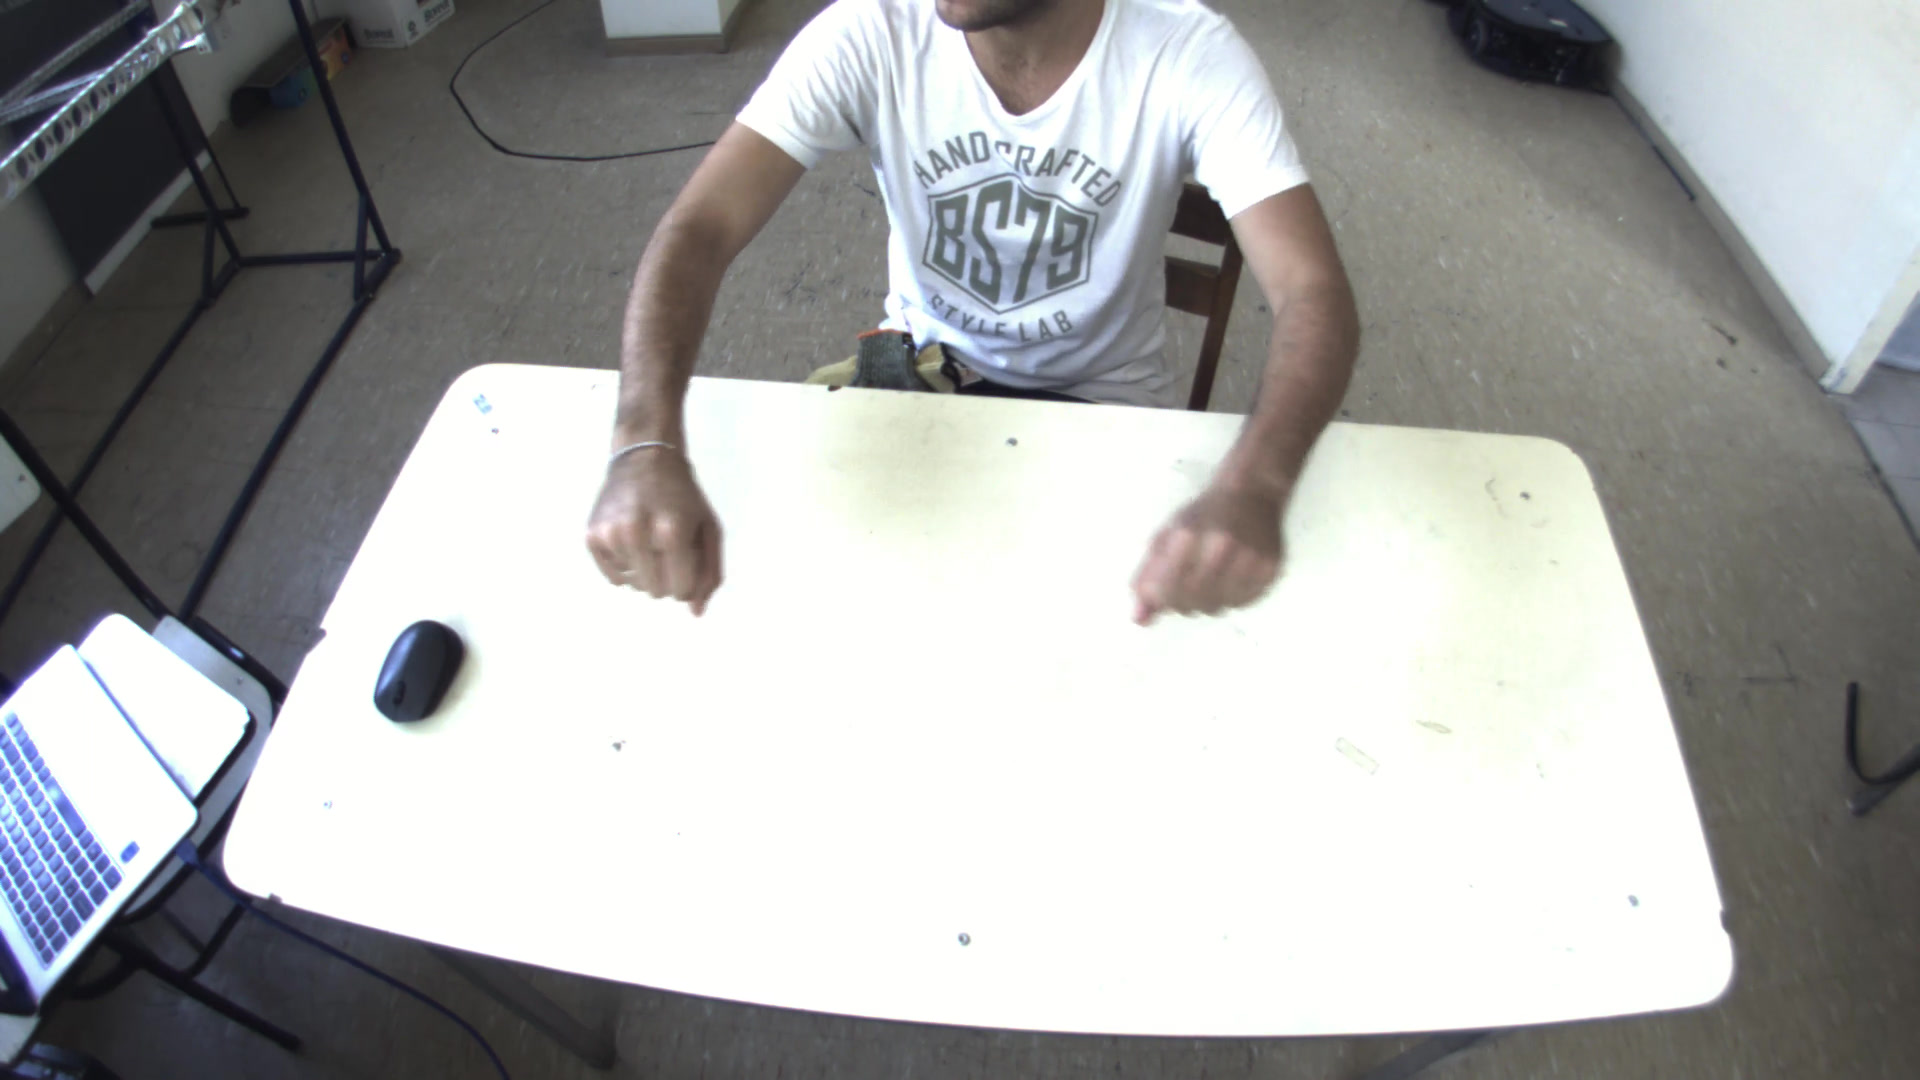hand: (578, 419, 731, 617), (1124, 465, 1305, 622)
